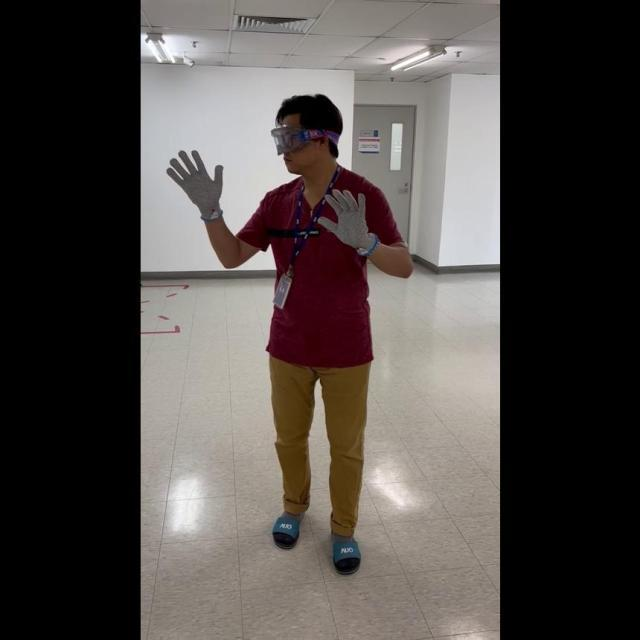gloved_hand: (313, 184, 378, 256), (165, 146, 225, 220)
